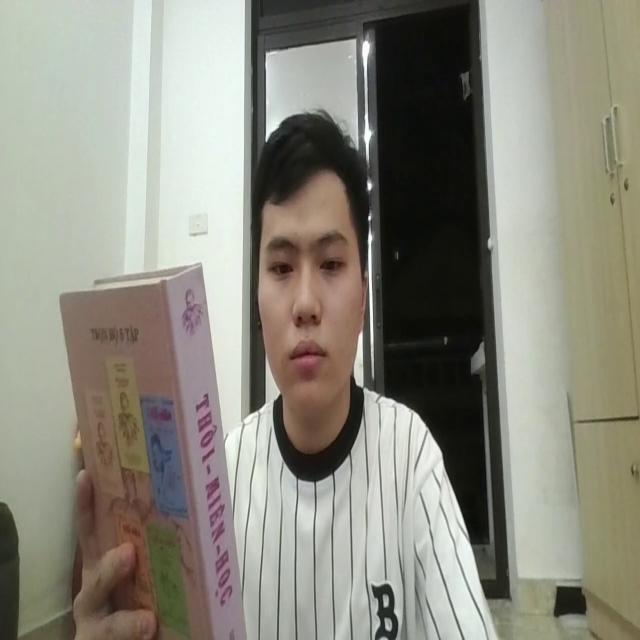book: (53, 250, 255, 640)
student: (230, 110, 500, 640)
